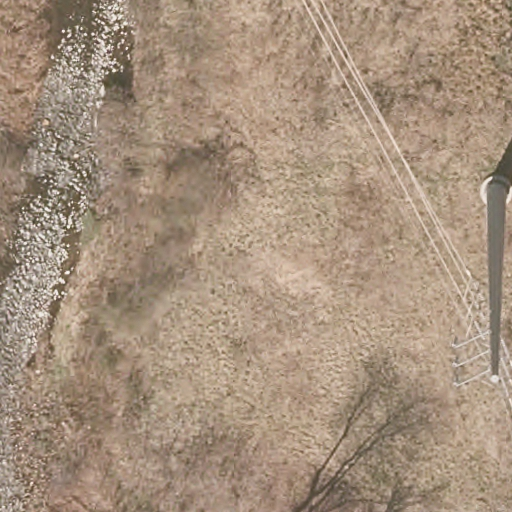TT: (451, 173, 512, 387)
